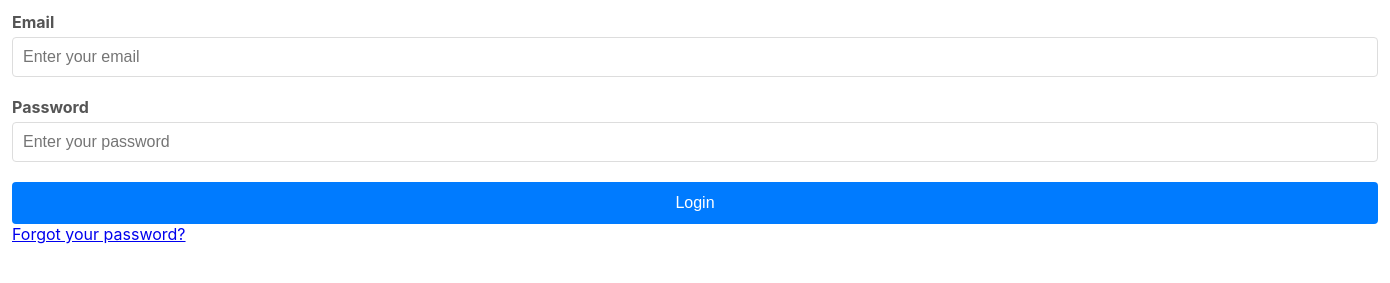
Test: LoginForm › displays error message on failed login
Type "john.doe@example.com" into the field labelled "Email" at (695, 57), box [12,37,1378,77]
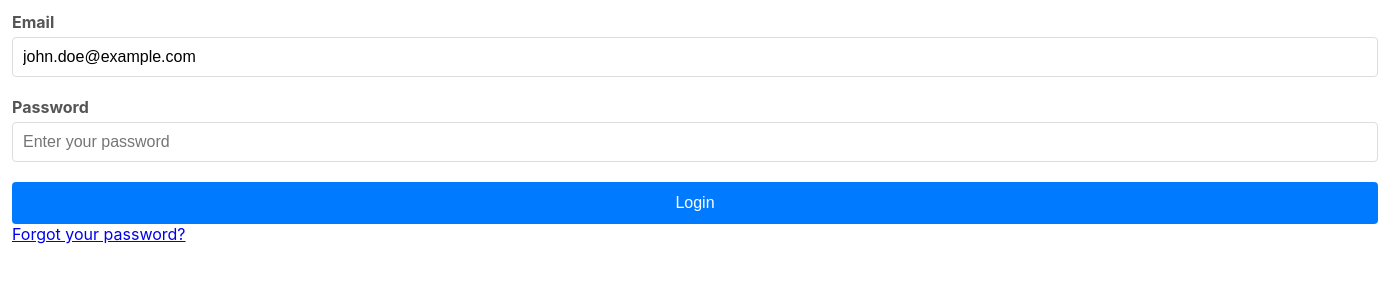
Type "wrongpassword" into the password field labelled "Password" at (695, 142), box [12,122,1378,162]
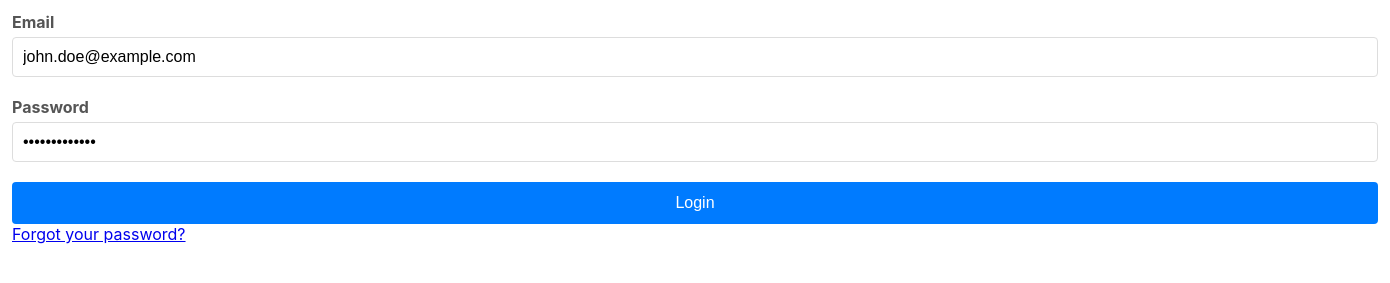
Click the button "Login" at (695, 203), box [12,182,1378,224]
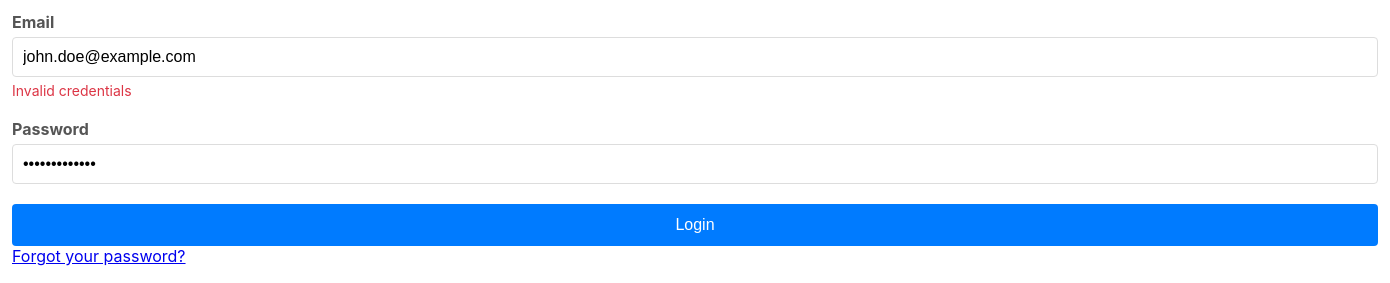
Result: the text "Invalid credentials" is shown at [12,82,132,99]
